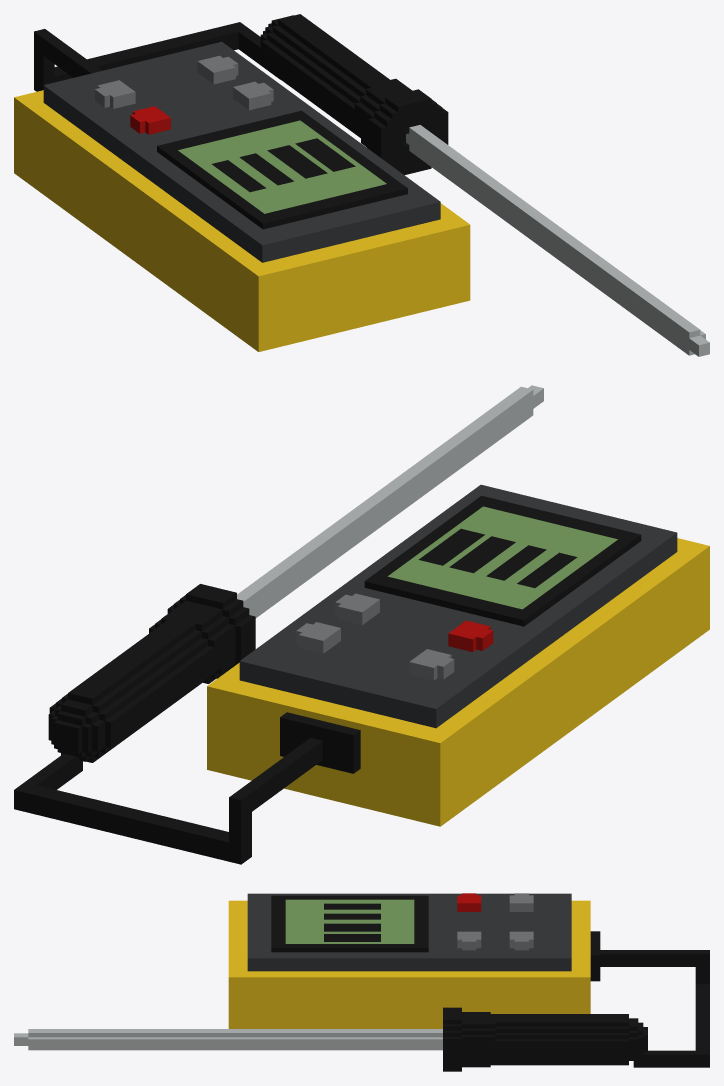
File: pyrometer.glb
3 renders of one model, top to bottom at view 1: azimuth 30°, elevation 25°; view 2: azimuth 150°, elevation 25°; view 3: azimuth 270°, elevation 25°, orthographic. The views are drawn at different scales.
Visible parts, largest first — view 1: pyrometer:compound; view 2: pyrometer:compound; view 3: pyrometer:compound.
Boxes of the visible parts, left/top/right/bottom form: pyrometer:compound: left=14, top=14, right=709, bottom=356; pyrometer:compound: left=14, top=385, right=709, bottom=864; pyrometer:compound: left=14, top=893, right=709, bottom=1071.
Size of the model in its own units: 0.12 by 0.036 by 0.292.
